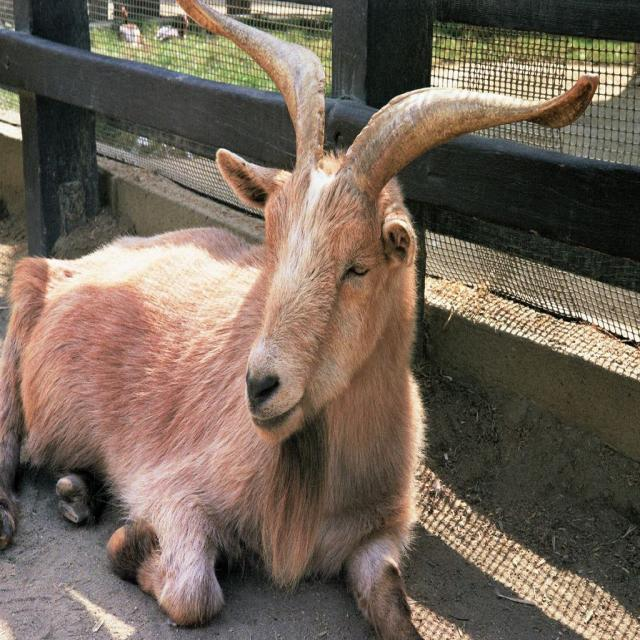Goat: (0, 0, 597, 639)
